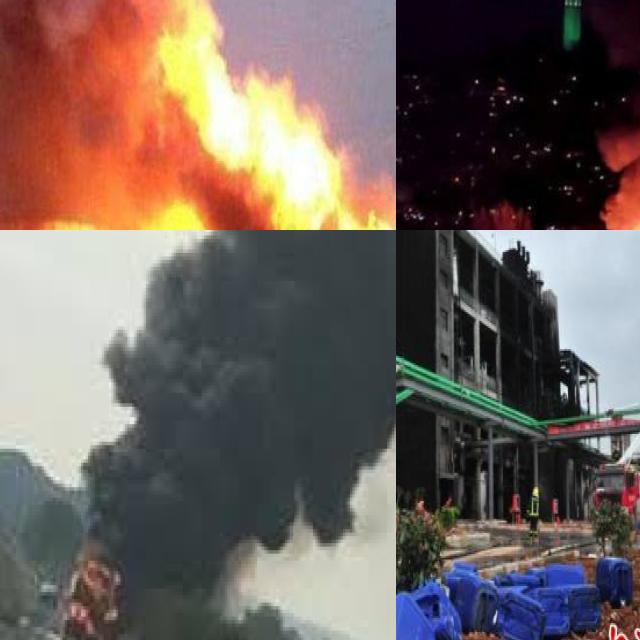fire: (165, 0, 396, 230), (17, 178, 232, 230), (55, 536, 131, 640)
smoke: (78, 230, 396, 602), (0, 0, 196, 212), (594, 0, 640, 230)
